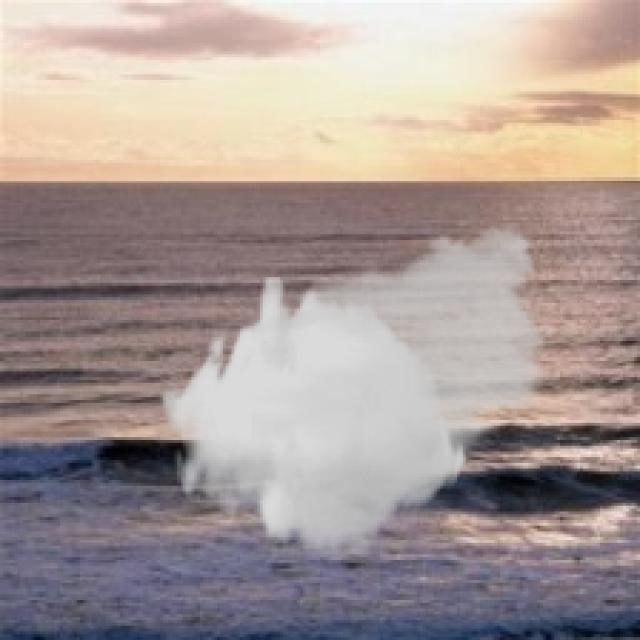Smoke: (160, 211, 560, 560)
